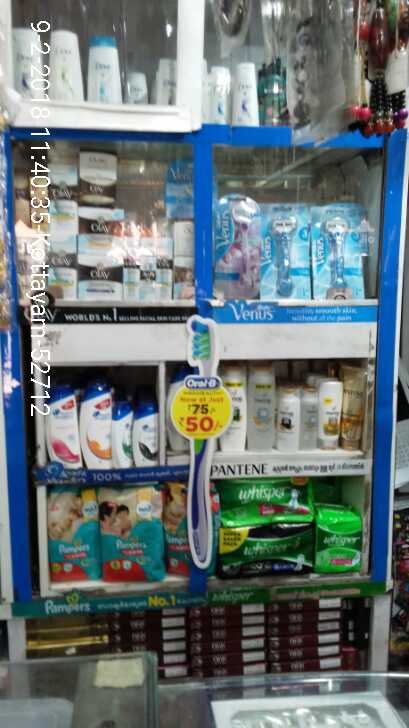venus: (208, 192, 260, 300), (266, 206, 317, 299), (317, 207, 364, 299)
